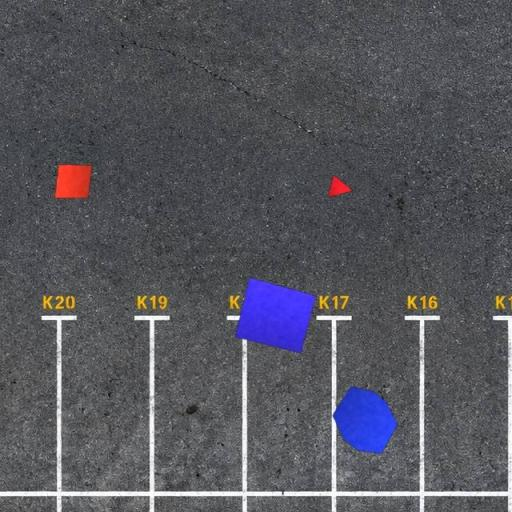BLUE_SQUARE: (234, 277, 316, 354)
RED_SQUARE: (54, 164, 93, 199)
